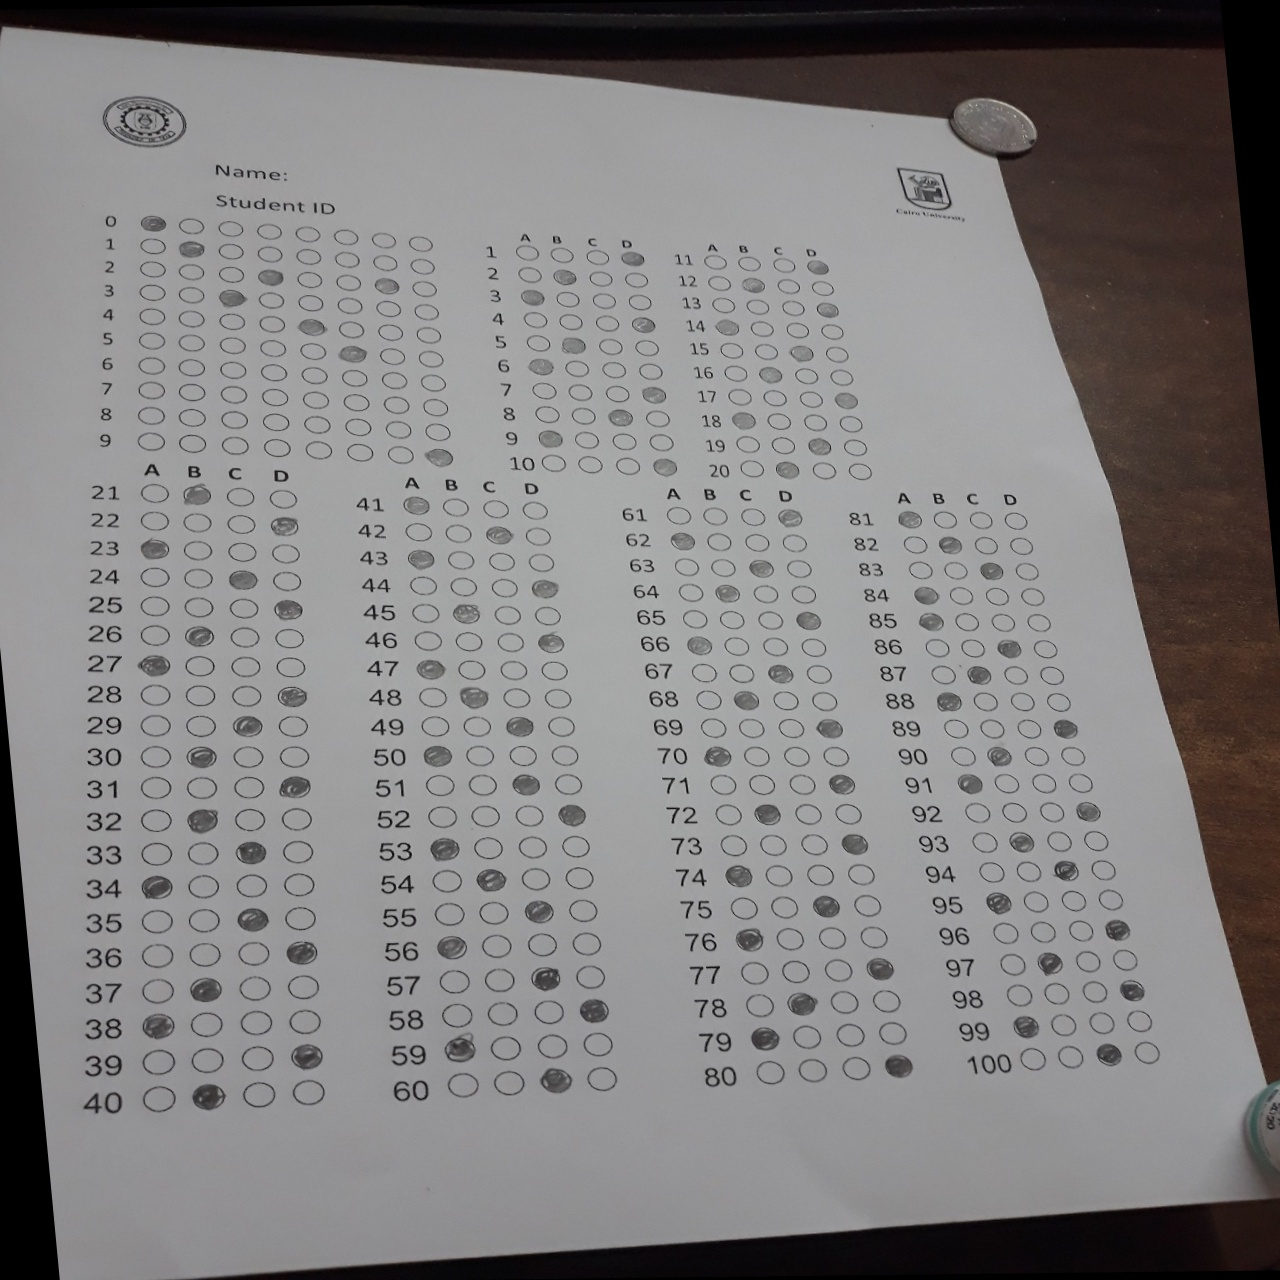not-c: (189, 1046, 226, 1073), (290, 1080, 327, 1105), (141, 1048, 178, 1074), (523, 931, 560, 956), (572, 964, 607, 990), (742, 990, 777, 1017), (139, 978, 176, 1003), (141, 1085, 177, 1111), (584, 1065, 620, 1091), (566, 897, 602, 922), (517, 865, 553, 891), (471, 835, 508, 860), (430, 867, 467, 893), (511, 802, 547, 828), (237, 975, 274, 1000), (475, 899, 512, 924), (467, 803, 504, 828), (240, 1044, 275, 1070), (485, 1000, 520, 1026), (532, 999, 567, 1024), (481, 966, 516, 992), (568, 930, 604, 955), (516, 832, 551, 858), (547, 742, 583, 768), (459, 713, 495, 738), (418, 713, 454, 738), (767, 894, 802, 920), (777, 958, 812, 983), (236, 940, 272, 965), (285, 974, 321, 999), (239, 1009, 275, 1034), (240, 1082, 277, 1107), (488, 1035, 524, 1060), (437, 968, 474, 993), (563, 865, 599, 890), (559, 833, 595, 858), (425, 804, 462, 829), (464, 772, 501, 797), (422, 772, 458, 797), (277, 806, 314, 830), (139, 942, 173, 968), (850, 891, 884, 917), (821, 956, 855, 982), (738, 959, 772, 985), (828, 989, 862, 1015), (754, 1058, 788, 1084), (186, 840, 222, 865), (189, 1012, 224, 1036), (445, 1071, 481, 1096), (581, 1032, 617, 1056), (536, 1033, 571, 1057), (479, 933, 515, 958), (506, 742, 542, 767), (463, 742, 498, 767), (833, 1021, 869, 1046), (839, 1055, 874, 1080), (137, 775, 173, 798), (231, 775, 267, 798), (287, 1009, 324, 1033), (491, 1070, 527, 1094), (440, 1002, 476, 1026), (551, 771, 587, 795), (858, 924, 891, 949), (1055, 1043, 1088, 1069), (1019, 888, 1051, 914), (234, 873, 268, 898), (188, 907, 222, 932), (139, 908, 173, 933), (284, 905, 318, 930), (727, 896, 761, 920), (815, 925, 849, 949), (772, 926, 806, 951), (869, 988, 903, 1013), (874, 1020, 908, 1044), (790, 1024, 824, 1049), (796, 1057, 830, 1082), (1016, 1047, 1050, 1071), (182, 777, 219, 799), (231, 808, 268, 830), (138, 713, 173, 736), (139, 808, 175, 831), (138, 842, 173, 865), (186, 873, 222, 897), (433, 901, 468, 925), (998, 951, 1029, 976), (137, 744, 173, 767), (1130, 1040, 1163, 1064), (1094, 887, 1126, 912), (281, 839, 315, 863), (282, 872, 316, 896), (188, 942, 222, 966), (501, 685, 535, 708), (542, 686, 576, 709), (545, 713, 579, 736), (539, 658, 573, 681), (498, 658, 532, 681), (455, 658, 489, 681), (493, 629, 527, 653), (712, 802, 745, 825), (675, 579, 706, 605), (1080, 979, 1111, 1003), (1065, 918, 1097, 942), (791, 802, 824, 825), (761, 862, 794, 885), (1123, 1008, 1156, 1032), (1085, 1010, 1118, 1034), (275, 714, 309, 736), (416, 685, 450, 707), (411, 629, 445, 652), (1049, 1013, 1080, 1037), (1042, 980, 1073, 1005), (670, 556, 702, 579), (1005, 982, 1036, 1006), (1073, 949, 1104, 973), (1027, 919, 1058, 942), (268, 542, 301, 564), (229, 655, 261, 678), (798, 832, 831, 855), (832, 802, 865, 824), (844, 862, 877, 884), (804, 863, 837, 885), (138, 683, 172, 704), (184, 715, 218, 736), (277, 745, 311, 767), (232, 745, 266, 767), (452, 629, 486, 651), (1110, 947, 1141, 971), (990, 920, 1021, 944), (1057, 888, 1088, 912), (442, 522, 474, 544), (779, 531, 811, 553), (758, 832, 790, 855), (181, 511, 213, 532), (181, 539, 213, 560), (270, 570, 302, 591), (182, 567, 215, 588), (139, 595, 172, 617), (182, 595, 215, 617), (229, 597, 261, 618), (229, 626, 261, 647), (230, 685, 263, 706), (699, 504, 731, 525), (754, 608, 787, 629), (802, 663, 835, 685), (716, 833, 749, 855), (679, 607, 709, 629), (272, 627, 304, 648), (139, 624, 171, 645), (184, 654, 216, 675), (274, 656, 306, 678), (184, 685, 216, 706), (444, 549, 476, 570), (526, 552, 558, 573), (523, 525, 554, 546), (519, 499, 551, 520), (760, 635, 791, 656), (809, 689, 840, 710), (736, 717, 768, 738), (787, 772, 818, 794), (745, 772, 777, 794), (708, 772, 740, 794), (964, 799, 992, 823), (1037, 799, 1065, 823), (1017, 584, 1046, 607), (175, 215, 207, 234), (216, 263, 248, 282), (257, 313, 290, 333), (224, 486, 257, 506), (266, 488, 299, 508), (139, 567, 172, 587), (726, 662, 758, 682), (774, 717, 806, 737), (978, 862, 1007, 884), (1000, 801, 1029, 823), (1058, 744, 1088, 767), (978, 716, 1007, 738), (988, 610, 1017, 632), (440, 496, 470, 517), (404, 520, 435, 542), (703, 531, 734, 552), (1088, 859, 1118, 880), (137, 236, 169, 256), (138, 282, 170, 302), (135, 331, 166, 350), (136, 380, 168, 400), (176, 284, 207, 304), (176, 260, 207, 280), (256, 290, 287, 309), (294, 270, 326, 290), (333, 271, 365, 291), (301, 413, 333, 433), (304, 440, 335, 459), (176, 433, 207, 452), (139, 482, 171, 502), (139, 511, 171, 531), (225, 513, 257, 533), (227, 542, 259, 561), (411, 602, 443, 622), (409, 576, 441, 595), (448, 576, 479, 595), (489, 576, 520, 595), (485, 550, 517, 570), (481, 498, 512, 518), (708, 556, 740, 576), (788, 583, 819, 602), (689, 662, 721, 682), (694, 689, 726, 709), (697, 719, 729, 738), (741, 745, 772, 765), (781, 745, 812, 765), (821, 745, 852, 765), (1081, 830, 1112, 850), (971, 830, 999, 852), (922, 636, 951, 659), (1032, 636, 1060, 659), (1024, 611, 1053, 633), (983, 584, 1012, 606), (1065, 771, 1095, 792), (1015, 717, 1044, 738), (1007, 690, 1036, 712), (1043, 692, 1073, 713), (1001, 663, 1030, 685), (930, 663, 959, 685), (958, 636, 987, 658), (947, 584, 976, 605), (215, 217, 247, 236), (216, 241, 248, 260), (291, 223, 324, 241), (175, 382, 207, 401), (175, 358, 207, 376), (175, 309, 207, 328), (297, 340, 329, 359), (339, 393, 372, 411), (301, 365, 332, 384), (532, 605, 563, 625), (492, 604, 523, 624), (663, 505, 694, 525), (737, 506, 768, 526), (742, 532, 772, 552), (784, 557, 815, 577), (751, 583, 782, 602), (716, 610, 747, 629), (722, 635, 753, 655), (799, 636, 830, 656), (770, 689, 801, 709), (1044, 830, 1075, 850), (1014, 862, 1044, 881), (1039, 663, 1065, 686), (256, 244, 287, 263), (252, 222, 284, 240), (137, 306, 169, 325), (176, 332, 207, 350), (295, 292, 327, 311), (217, 312, 248, 331), (258, 338, 290, 356), (377, 346, 409, 365), (421, 422, 452, 441), (384, 418, 416, 437), (384, 444, 416, 463), (259, 411, 291, 430), (219, 409, 251, 428), (219, 435, 251, 454), (1030, 772, 1058, 794), (993, 772, 1021, 794), (1021, 745, 1049, 767), (949, 745, 978, 767), (942, 717, 971, 738), (972, 690, 1000, 712), (953, 610, 981, 631), (846, 459, 874, 481), (801, 411, 829, 433), (414, 324, 443, 343), (339, 368, 372, 386), (379, 370, 411, 388), (418, 397, 451, 415), (343, 442, 376, 459), (138, 259, 169, 278), (136, 355, 166, 374), (260, 387, 291, 406), (302, 389, 333, 408), (416, 349, 447, 368), (136, 406, 166, 424), (137, 431, 168, 450), (1013, 561, 1041, 581), (1002, 510, 1030, 530), (931, 509, 959, 529), (901, 535, 930, 554), (942, 560, 971, 580), (810, 459, 838, 479), (837, 413, 865, 433), (826, 366, 855, 386), (334, 295, 363, 314), (219, 384, 248, 403), (418, 372, 448, 390), (907, 560, 934, 580), (973, 535, 1000, 554), (738, 457, 765, 477), (734, 433, 761, 452), (769, 435, 796, 455), (726, 386, 753, 406), (331, 229, 361, 246), (218, 335, 248, 353), (218, 360, 248, 377), (259, 363, 290, 381), (381, 395, 411, 413), (343, 417, 374, 435), (177, 408, 207, 425), (968, 509, 996, 527), (840, 437, 869, 456), (539, 452, 567, 471), (294, 247, 324, 265), (333, 250, 362, 267), (369, 230, 399, 247), (411, 302, 441, 320), (263, 438, 292, 456), (1008, 535, 1034, 554), (765, 411, 792, 430), (761, 387, 788, 406), (770, 256, 797, 274), (644, 408, 670, 427), (576, 454, 602, 472), (409, 257, 437, 274), (336, 320, 365, 338), (376, 299, 404, 316), (798, 389, 824, 408), (776, 277, 802, 295), (531, 380, 557, 399), (570, 406, 595, 424), (411, 279, 438, 297), (604, 384, 631, 402), (535, 406, 561, 423), (573, 430, 600, 448), (613, 457, 640, 475), (407, 234, 435, 251), (376, 324, 404, 340), (622, 271, 651, 287), (568, 382, 593, 401), (648, 433, 673, 451), (748, 319, 774, 336), (549, 245, 574, 263), (517, 265, 543, 282), (591, 291, 617, 308), (638, 362, 663, 380), (564, 359, 590, 376), (719, 341, 745, 358), (753, 342, 779, 359), (784, 321, 811, 338), (809, 279, 836, 295), (584, 248, 611, 265), (515, 244, 542, 260), (587, 270, 614, 286), (627, 293, 654, 309), (557, 313, 584, 329), (525, 334, 552, 350), (610, 433, 636, 449), (634, 338, 659, 355), (601, 360, 626, 377), (372, 254, 400, 270), (794, 367, 819, 383), (723, 365, 749, 381), (824, 346, 850, 362), (712, 295, 737, 312), (744, 298, 770, 314), (779, 298, 805, 314), (554, 290, 580, 306), (594, 314, 620, 331), (523, 309, 549, 326), (597, 338, 622, 354), (819, 324, 845, 339), (703, 253, 729, 268), (736, 256, 761, 271), (707, 274, 731, 290)
taken-c: (189, 1082, 227, 1110), (748, 1024, 785, 1053), (288, 1043, 326, 1071), (537, 1065, 576, 1092), (527, 965, 566, 992), (573, 996, 612, 1023), (880, 1051, 914, 1082), (442, 1036, 481, 1062), (785, 990, 821, 1019), (434, 934, 471, 960), (721, 864, 756, 891), (139, 1013, 175, 1040), (184, 808, 220, 833), (284, 940, 320, 966), (234, 906, 270, 932), (427, 836, 463, 860), (188, 976, 224, 1001), (182, 622, 216, 648), (808, 896, 843, 920), (275, 774, 311, 798), (234, 840, 270, 865), (139, 874, 175, 899), (508, 772, 544, 796), (275, 685, 309, 709), (520, 899, 556, 922), (474, 867, 509, 891), (553, 803, 588, 826), (138, 537, 172, 560), (137, 654, 171, 678), (230, 714, 264, 737), (183, 745, 218, 768), (503, 714, 536, 737), (751, 802, 785, 824), (825, 772, 858, 795), (837, 832, 870, 855), (457, 686, 490, 708), (415, 658, 448, 680), (181, 484, 213, 506), (420, 744, 454, 765), (535, 632, 568, 653), (272, 597, 302, 620), (863, 956, 894, 979), (908, 584, 941, 605), (700, 745, 733, 767), (731, 930, 764, 951), (1101, 918, 1131, 940), (268, 515, 299, 537), (993, 638, 1024, 659), (915, 611, 947, 632), (962, 663, 994, 685), (683, 634, 715, 655), (730, 689, 762, 710), (404, 549, 436, 570), (227, 568, 259, 590), (1073, 801, 1105, 821), (772, 508, 805, 527), (955, 772, 985, 795), (978, 560, 1008, 581), (1006, 830, 1036, 851), (1034, 952, 1064, 973), (1117, 979, 1148, 1000), (896, 508, 926, 529), (745, 557, 776, 578), (813, 717, 844, 738), (484, 523, 515, 544), (401, 495, 431, 516), (1048, 719, 1080, 738), (933, 692, 965, 712), (983, 745, 1015, 765), (934, 535, 966, 554), (713, 583, 744, 602), (764, 663, 796, 683), (1051, 859, 1081, 880), (983, 892, 1013, 913), (1010, 1015, 1040, 1036), (1094, 1043, 1123, 1064), (730, 409, 760, 430), (636, 386, 669, 404), (667, 530, 697, 550), (792, 610, 823, 629), (529, 578, 559, 598), (177, 238, 207, 258), (295, 316, 327, 335), (338, 343, 369, 362), (372, 275, 403, 294), (138, 213, 170, 232), (516, 287, 547, 306), (806, 436, 835, 457), (451, 602, 481, 622), (651, 456, 680, 476), (772, 459, 802, 479), (832, 390, 862, 410), (617, 248, 649, 266), (536, 429, 568, 447), (604, 408, 636, 425), (256, 267, 286, 286), (423, 448, 454, 467), (216, 288, 247, 306), (628, 315, 660, 333), (558, 338, 590, 355), (787, 343, 816, 362), (549, 267, 579, 285), (526, 358, 557, 375), (757, 365, 785, 382), (714, 318, 742, 335), (738, 275, 765, 293), (805, 257, 832, 274), (813, 301, 842, 318)
